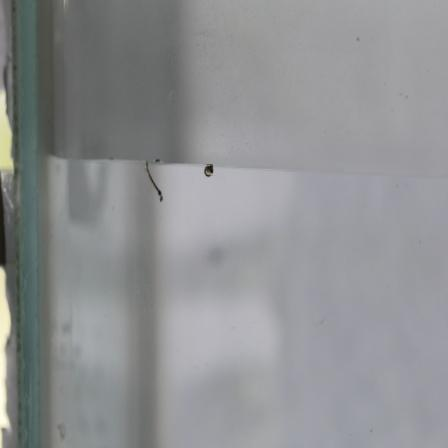Jentik-Nyamuk: (141, 155, 166, 207), (200, 159, 217, 182)
